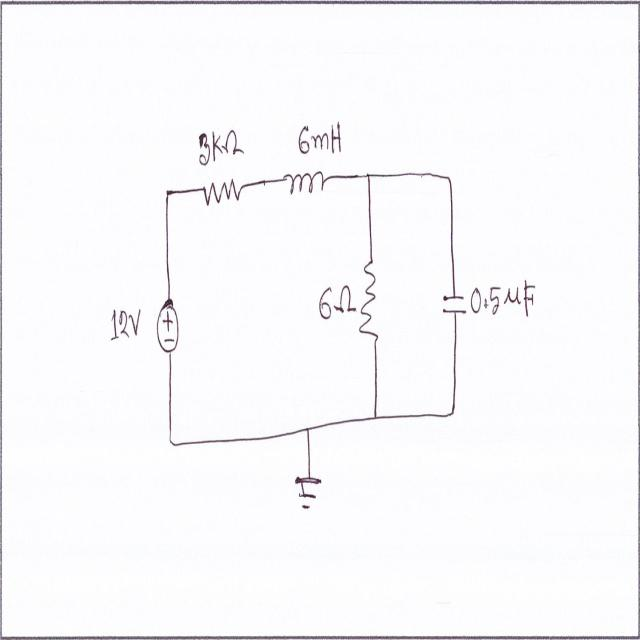capacitor: (440, 288, 469, 317)
ground: (294, 465, 324, 517)
inductor: (283, 165, 328, 201)
resistor: (358, 255, 380, 348), (202, 176, 243, 208)
voltage_source: (153, 296, 185, 356)
